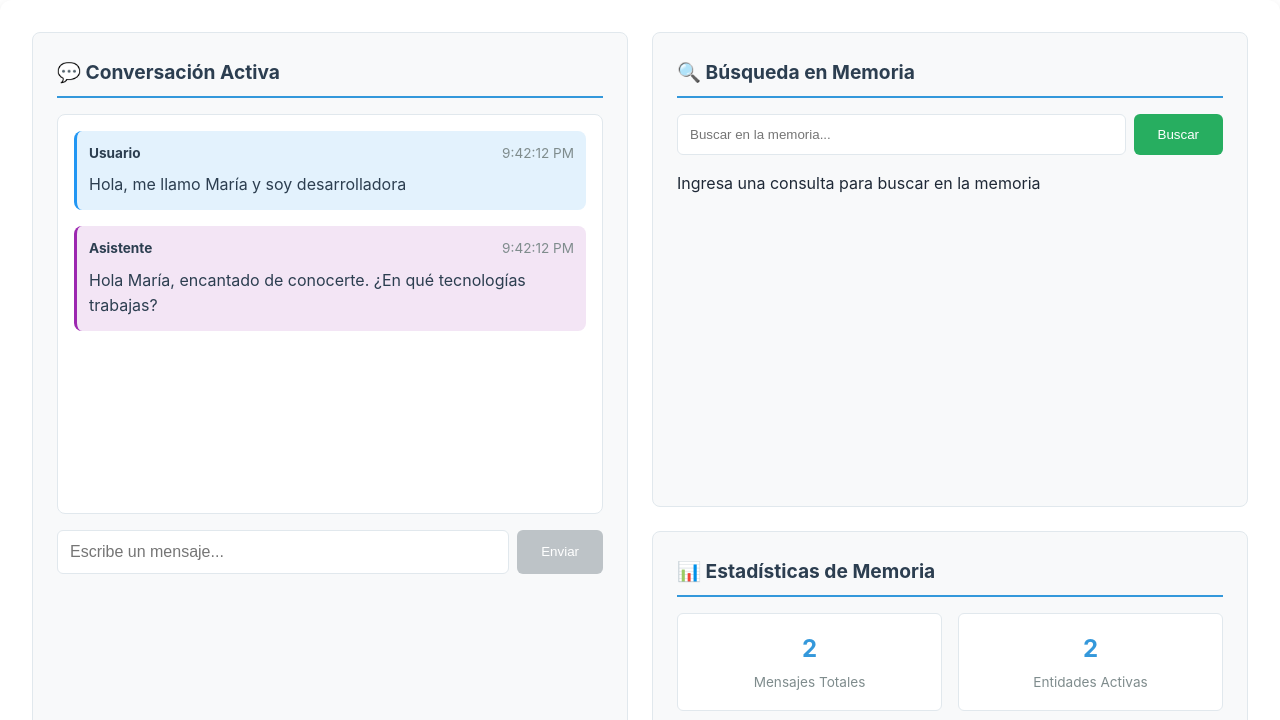
Test case: Lesson03Implementation › LiveDemo Component › updates statistics after adding message
The width and height of the screenshot is (1280, 720).
Step 1. Type "Trabajo con Python y Django" into the field with placeholder "Escribe un mensaje..." → (283, 552), box [57,530,509,574]
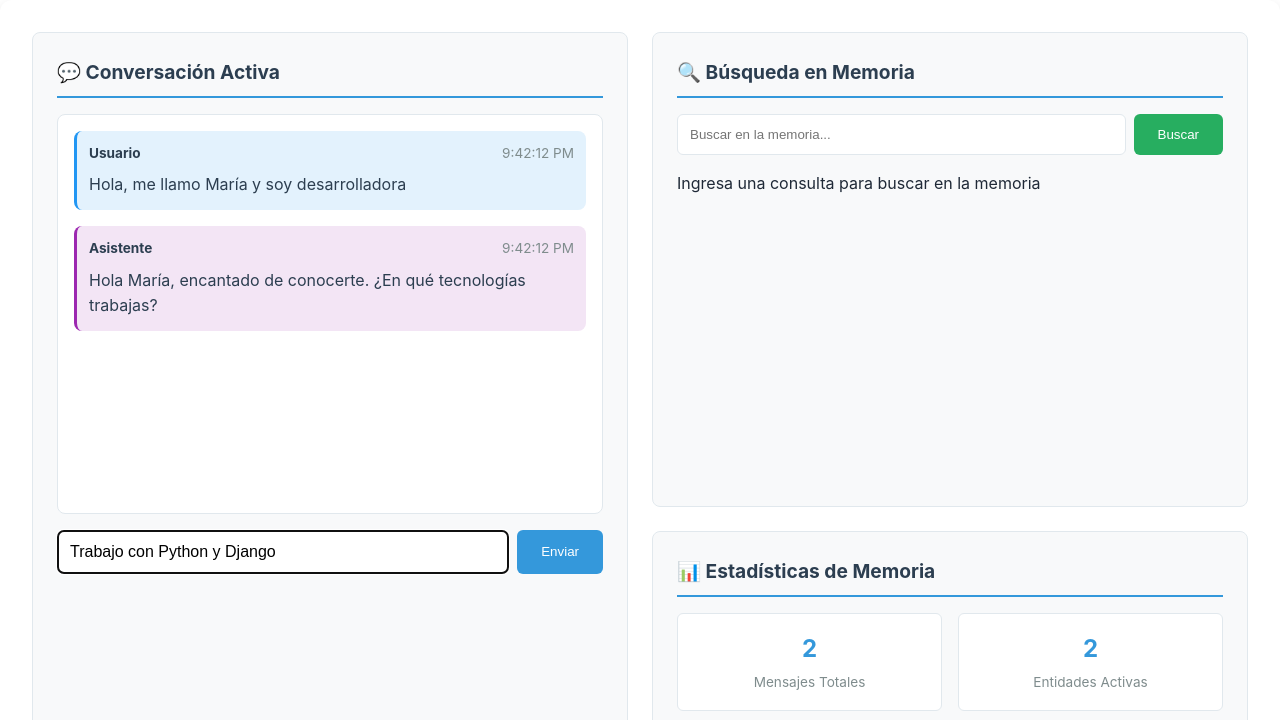
Step 2. Click the button "Enviar" → (560, 552), box [517,530,603,574]
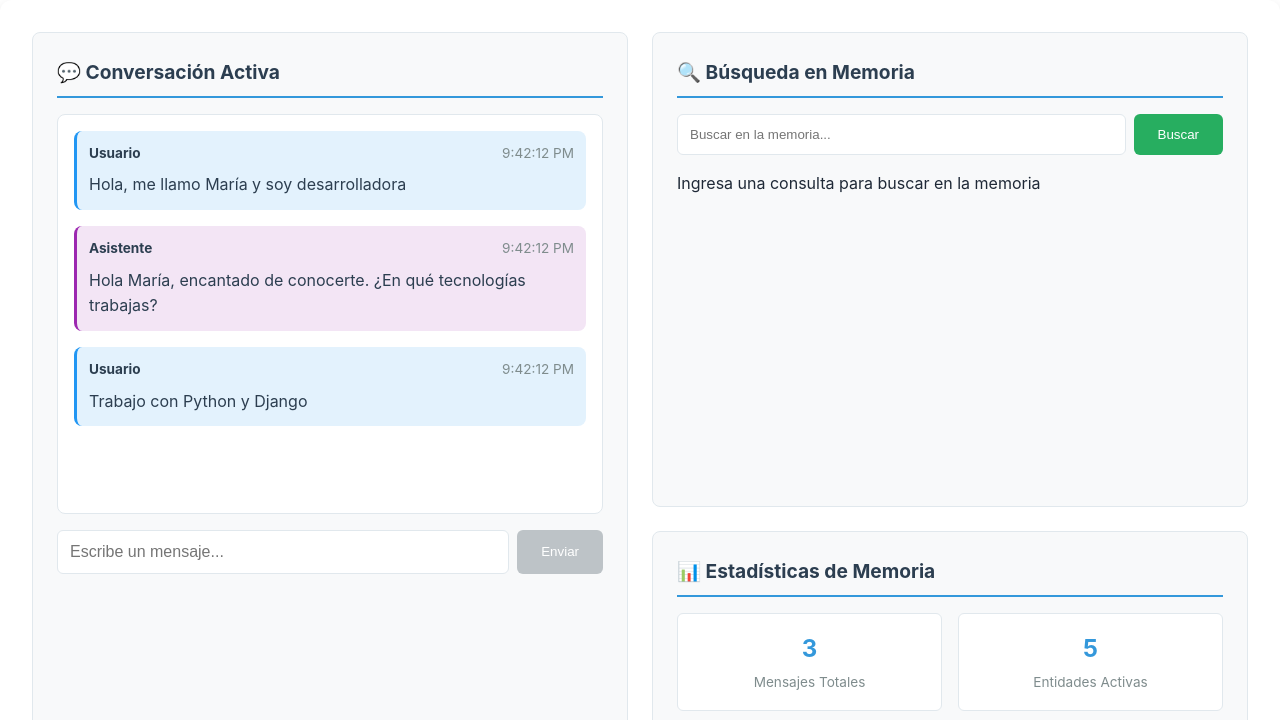
Result: the text "3" is shown at [802,634,817,663]
